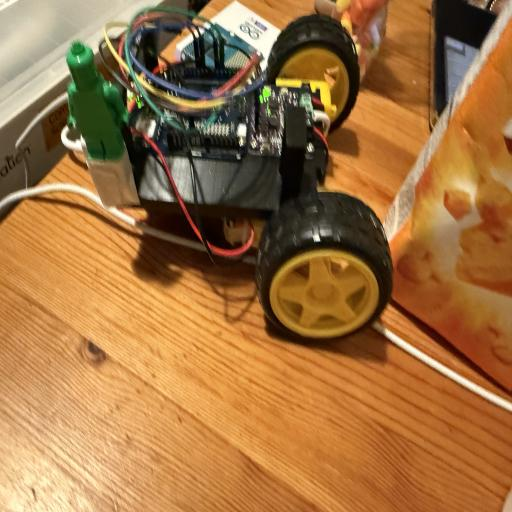Minifig: (67, 41, 127, 160)
